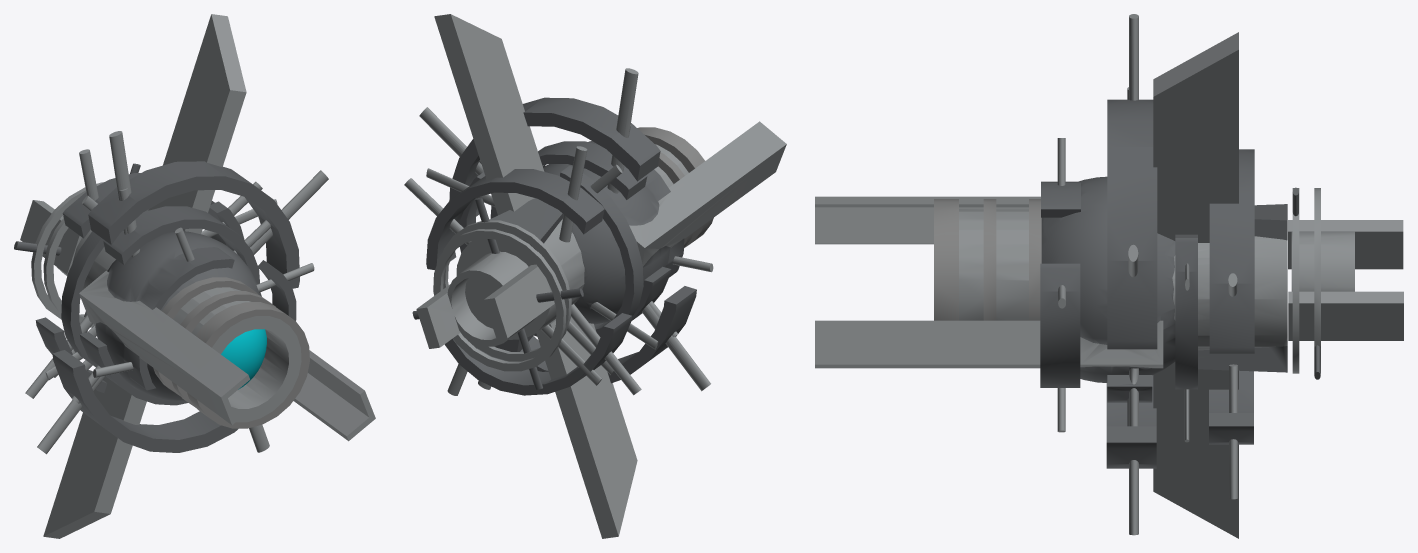
The model's file is orbital_camera_v2.glb.
The picture shows the model from 3 angles, left to right: view 1: azimuth 30°, elevation 25°; view 2: azimuth 150°, elevation 25°; view 3: azimuth 270°, elevation 25°; orthographic projection. The views are drawn at different scales.
Visible parts, largest first — view 1: Mesh_Mesh_head_geo.001_lambert2SG.001_0; view 2: Mesh_Mesh_head_geo.001_lambert2SG.001_0; view 3: Mesh_Mesh_head_geo.001_lambert2SG.001_0.
Part boxes in pixels (x1=…): Mesh_Mesh_head_geo.001_lambert2SG.001_0: x1=14, y1=14, x2=375, y2=538; Mesh_Mesh_head_geo.001_lambert2SG.001_0: x1=404, y1=14, x2=786, y2=538; Mesh_Mesh_head_geo.001_lambert2SG.001_0: x1=815, y1=14, x2=1403, y2=538.
Size of the model in its own units: 49.54 by 79.36 by 70.86.
